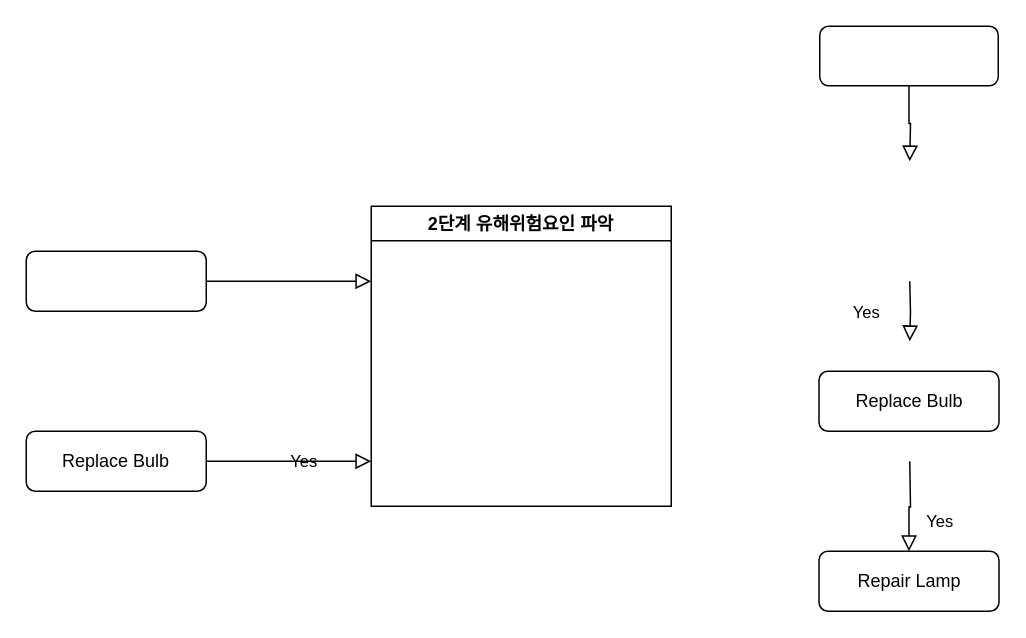
The diagram is 1026 pixels wide and 638 high, and some of its shapes have lost their labels. The centre of each missing label's shape, as x and y in pixels:
"Plug in lamp" goes at (115,280).
"개 시" goes at (908,55).
